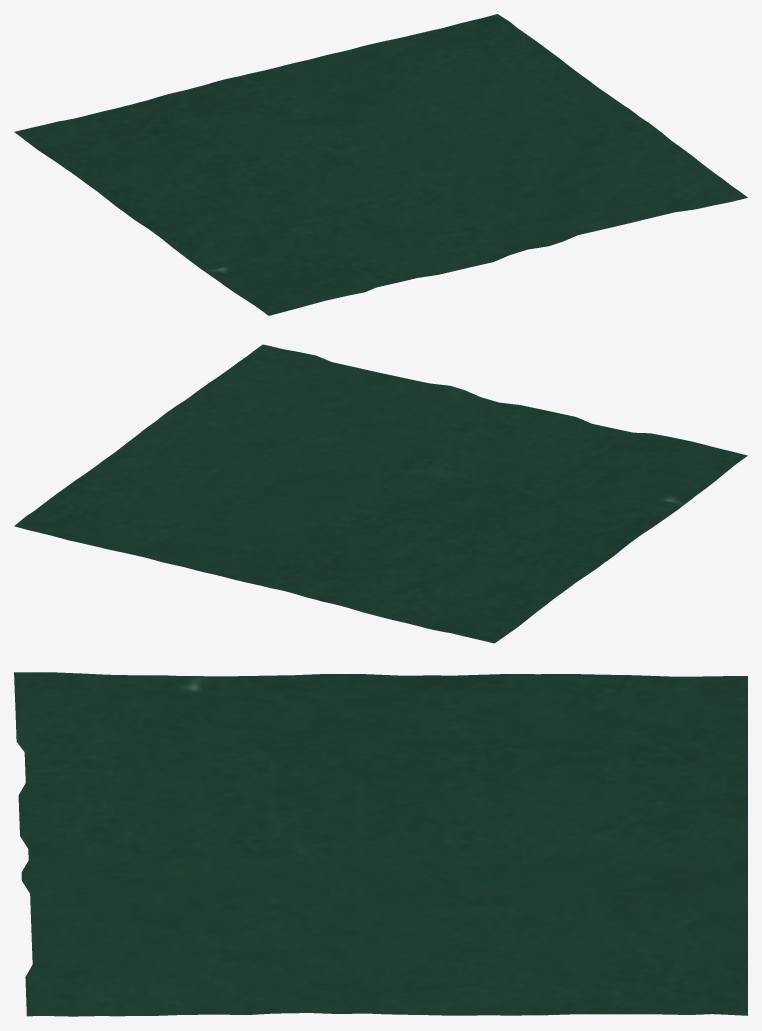
3 views of the same model, one above another, from view 1: azimuth 30°, elevation 25°; view 2: azimuth 150°, elevation 25°; view 3: azimuth 270°, elevation 25° (orthographic). The views are drawn at different scales.
Size of the model in its own units: 104 by 1.09 by 95.34.
Materials: 2 (2 with a texture image).
